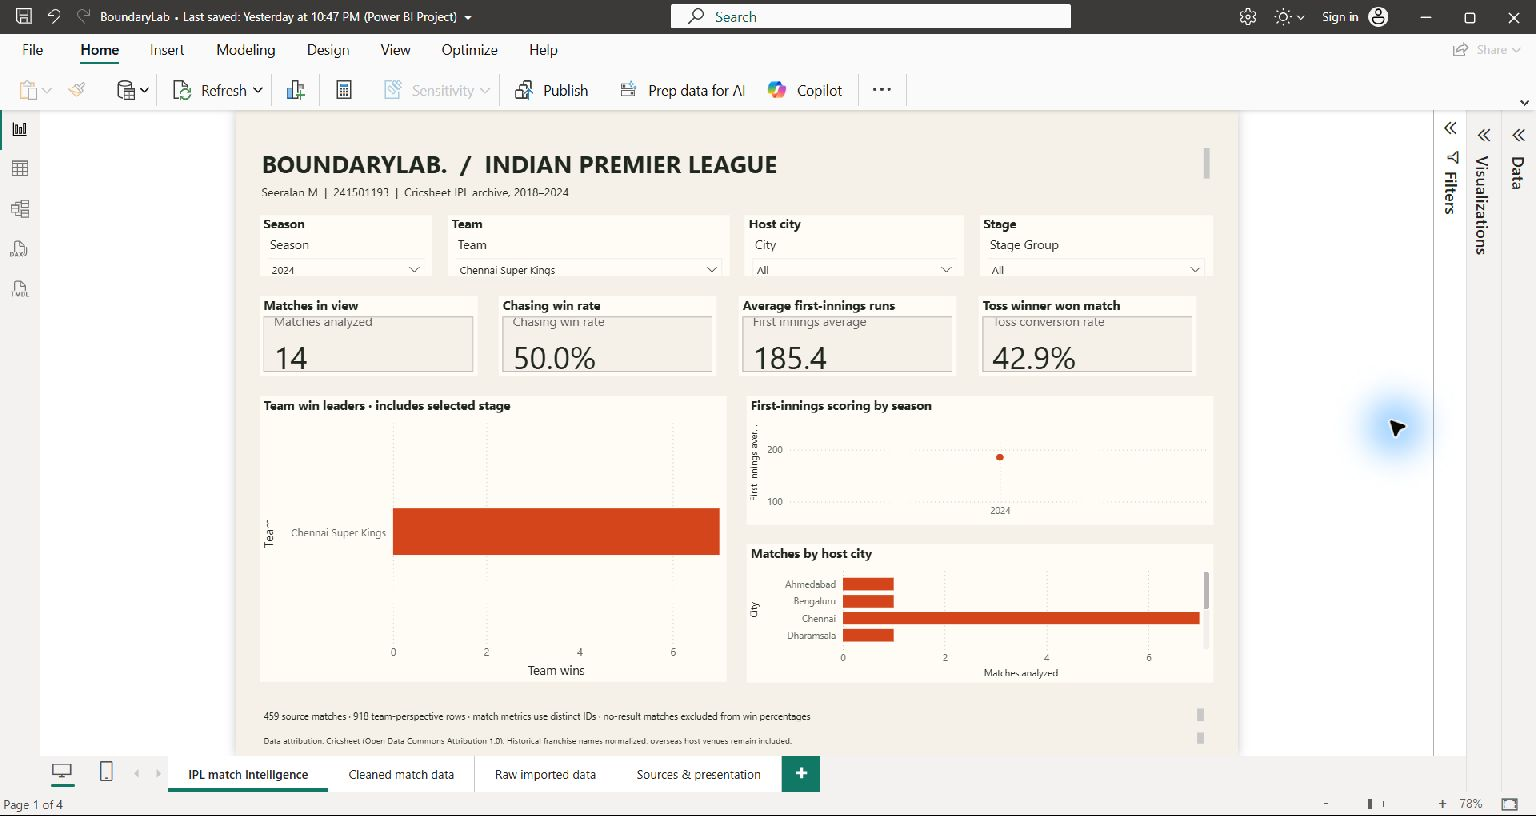

This screenshot's page, from the dashboard's own definition file:
{"tool":"powerbi","page":{"name":"IPL match intelligence","canvas":[1280,800],"ordinal":0},"visuals":[{"type":"textbox","box":[28,18,1220,50],"z":0},{"type":"textbox","box":[28,64,1050,32],"z":1},{"type":"slicer","title":"Season","fields":{"Values":["TeamMatches.Season"]},"box":[30,108,220,78],"z":2},{"type":"slicer","title":"Team","fields":{"Values":["TeamMatches.Team"]},"box":[270,108,360,78],"z":3},{"type":"slicer","title":"Host city","fields":{"Values":["TeamMatches.City"]},"box":[650,108,280,78],"z":4},{"type":"slicer","title":"Stage","fields":{"Values":["TeamMatches.Stage Group"]},"box":[950,108,298,78],"z":5},{"type":"cardVisual","title":"Matches in view","fields":{"Data":["TeamMatches.Matches analyzed"]},"box":[30,212,278,102],"z":6},{"type":"cardVisual","title":"Chasing win rate","fields":{"Data":["TeamMatches.Chasing win rate"]},"box":[336,212,278,102],"z":7},{"type":"cardVisual","title":"Average first-innings runs","fields":{"Data":["TeamMatches.First innings average"]},"box":[642,212,278,102],"z":8},{"type":"cardVisual","title":"Toss winner won match","fields":{"Data":["TeamMatches.Toss conversion rate"]},"box":[948,212,278,102],"z":9},{"type":"barChart","title":"Team win leaders · includes selected stage","fields":{"Category":["TeamMatches.Team"],"Y":["TeamMatches.Team wins"]},"box":[30,340,596,365],"z":10},{"type":"lineChart","title":"First-innings scoring by season","fields":{"Category":["TeamMatches.Season"],"Y":["TeamMatches.First innings average"]},"box":[652,340,596,165],"z":11},{"type":"barChart","title":"Matches by host city","fields":{"Category":["TeamMatches.City"],"Y":["TeamMatches.Matches analyzed"]},"box":[652,528,596,177],"z":12},{"type":"textbox","box":[30,734,1210,26],"z":13},{"type":"textbox","box":[30,765,1210,23],"z":14}]}

Visuals, with their boxes on the page's 1280x800 design canvas (x1, y1, x2, y2). These are canvas units, not pixel positions in the 1536x816 screenshot, which may show the page scaled, cropped or inside an application window:
textbox: locate(28, 18, 1248, 68)
textbox: locate(28, 64, 1078, 96)
"Season" slicer: locate(30, 108, 250, 186)
"Team" slicer: locate(270, 108, 630, 186)
"Host city" slicer: locate(650, 108, 930, 186)
"Stage" slicer: locate(950, 108, 1248, 186)
"Matches in view" cardVisual: locate(30, 212, 308, 314)
"Chasing win rate" cardVisual: locate(336, 212, 614, 314)
"Average first-innings runs" cardVisual: locate(642, 212, 920, 314)
"Toss winner won match" cardVisual: locate(948, 212, 1226, 314)
"Team win leaders · includes selected stage" barChart: locate(30, 340, 626, 705)
"First-innings scoring by season" lineChart: locate(652, 340, 1248, 505)
"Matches by host city" barChart: locate(652, 528, 1248, 705)
textbox: locate(30, 734, 1240, 760)
textbox: locate(30, 765, 1240, 788)
